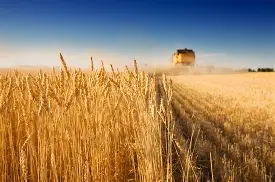crops: (0, 54, 170, 179), (157, 72, 236, 179), (222, 118, 274, 181), (247, 67, 274, 72)
